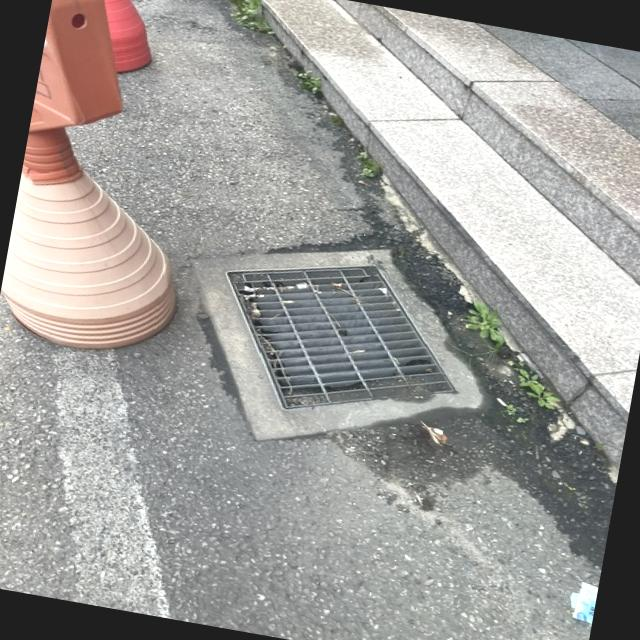drain_area: (248, 282, 440, 387)
drain_full: (227, 266, 454, 408)
